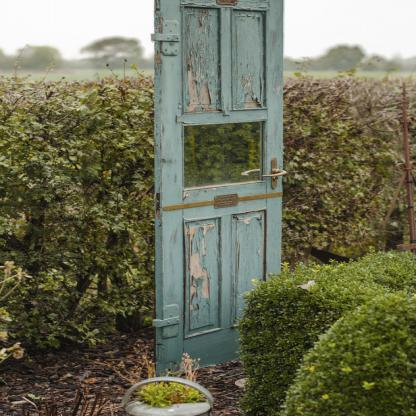door: (152, 0, 292, 370)
lever: (262, 166, 288, 182)
